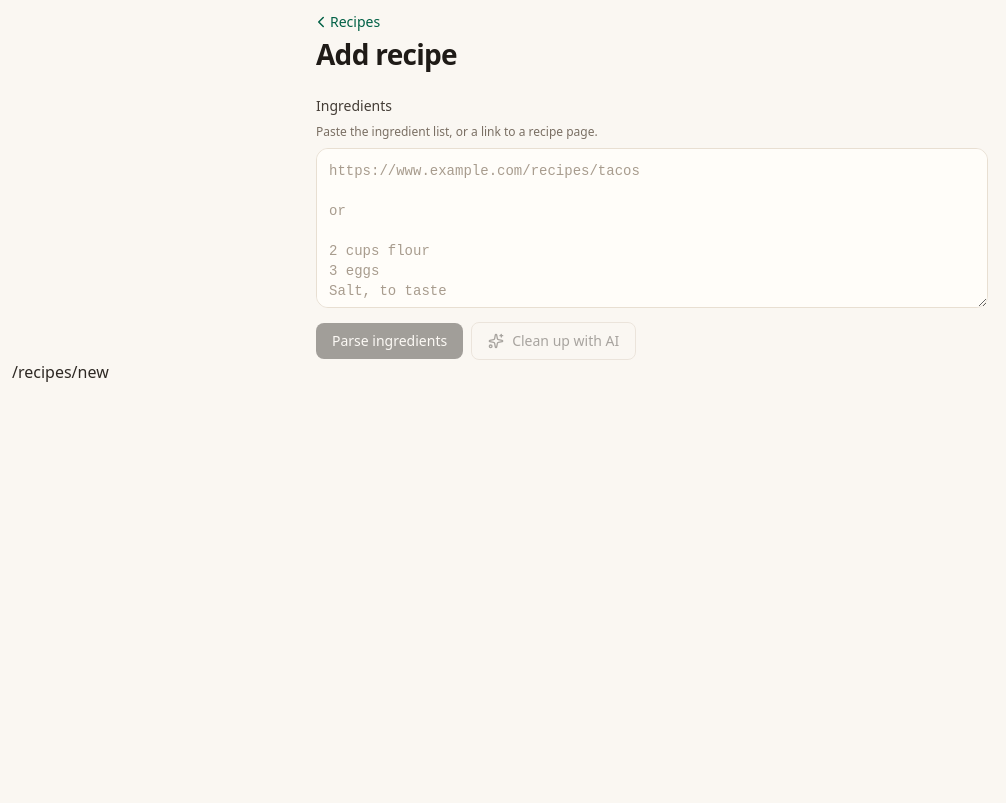
RecipeEditorScreen: AI › keeps servings the user already entered
Type "Grandma used 2 cups flour and eggs" into the text box labelled "Ingredients" at x=652, y=228, box left=316, top=148, right=988, bottom=308
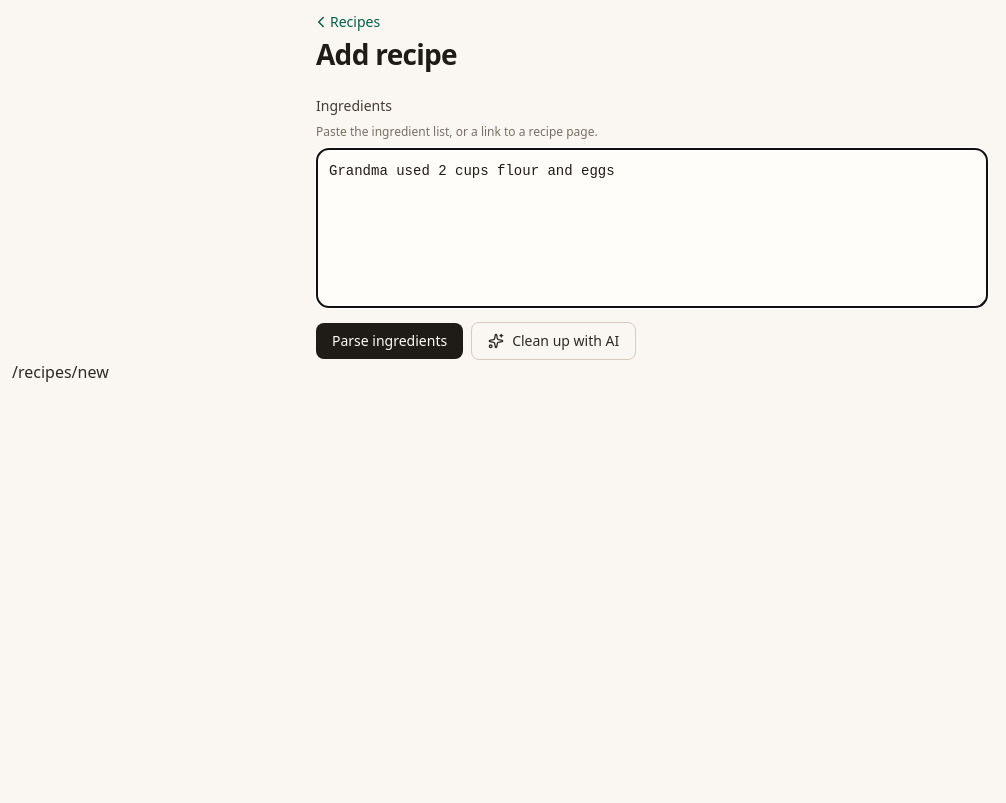
Click the button "Parse ingredients" at x=390, y=341, box left=316, top=323, right=463, bottom=359
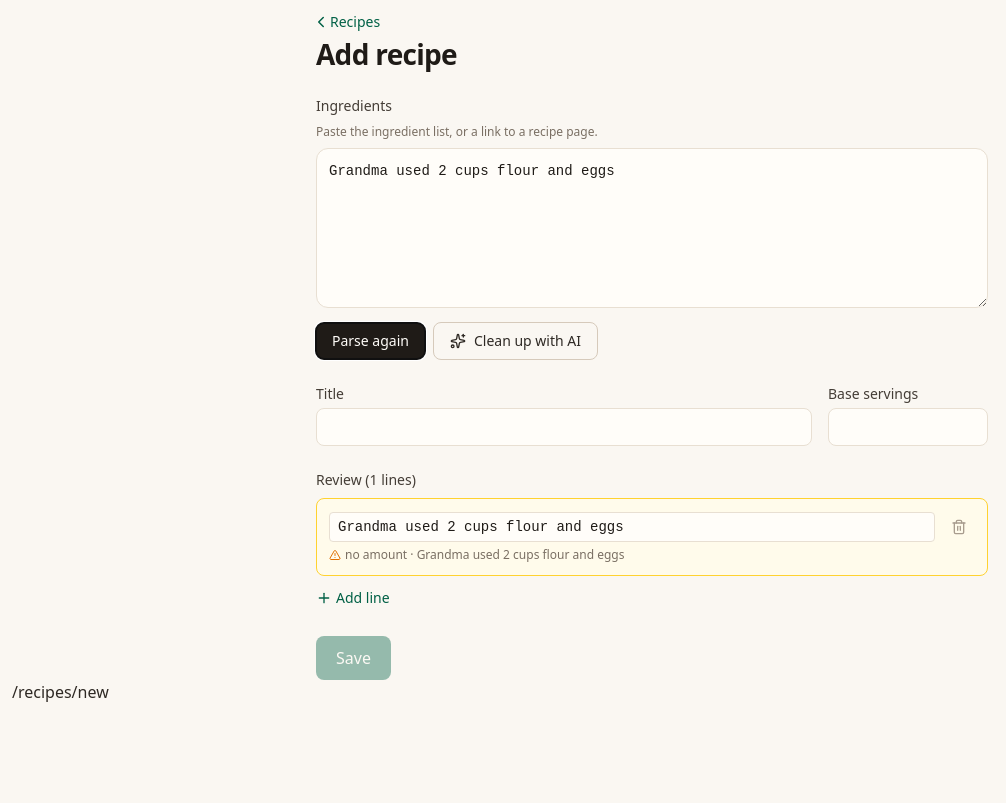
Type "6" into the number field labelled "Base servings" at x=908, y=427, box left=828, top=408, right=988, bottom=446
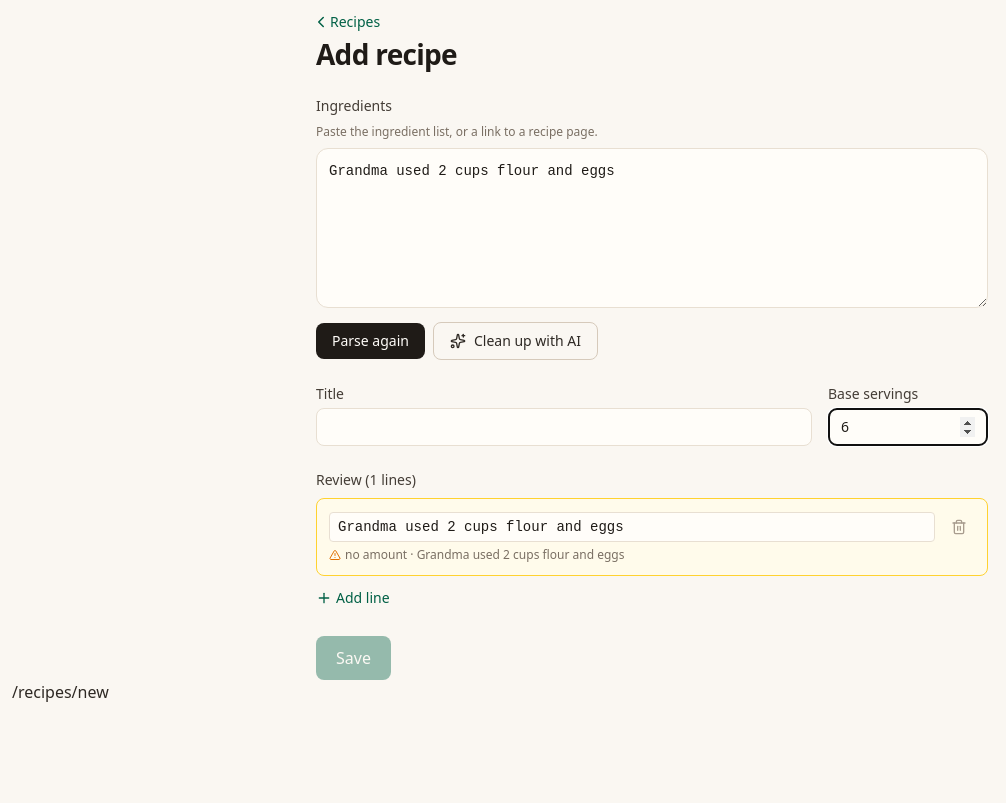
Now the button "Clean up with AI" is enabled
Click the button "Clean up with AI" at x=515, y=341, box left=433, top=322, right=598, bottom=360
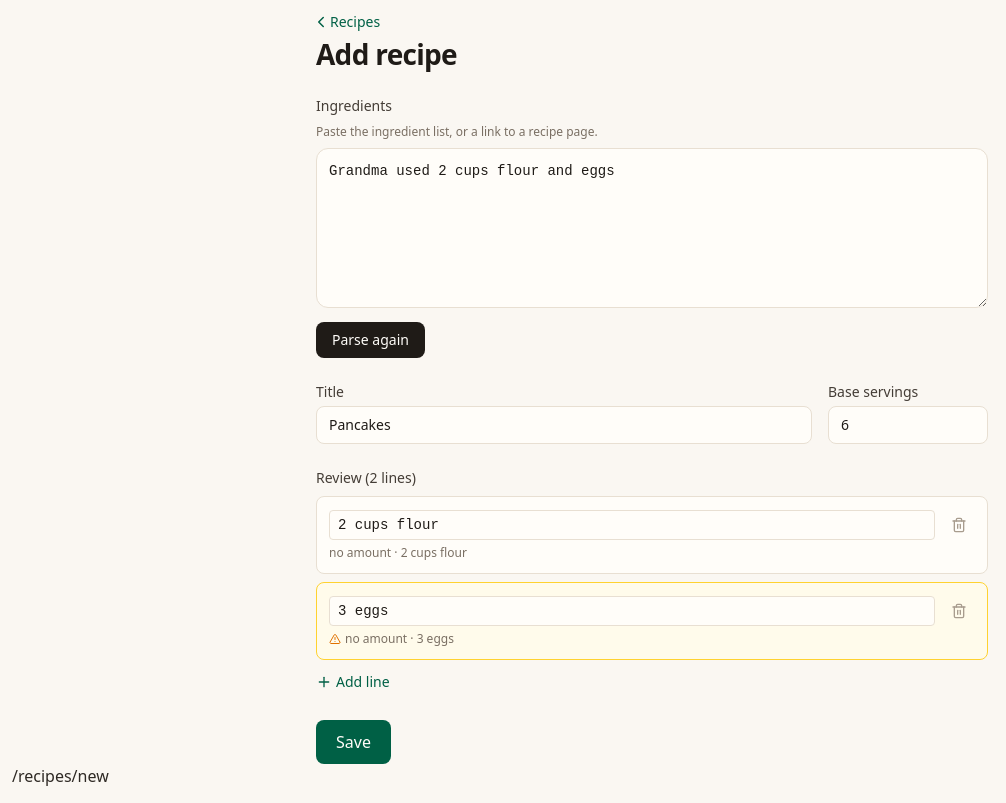
Now the heading "Review (2 lines)" is shown, box left=316, top=468, right=416, bottom=487
